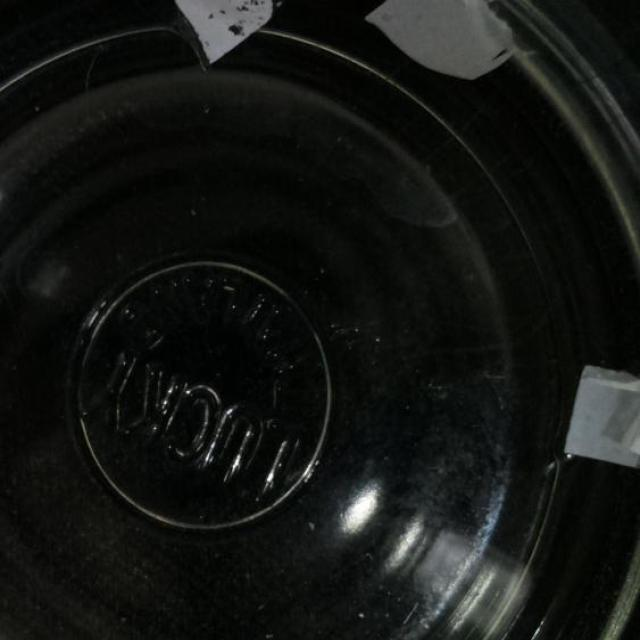fiber: (359, 2, 525, 83), (563, 364, 640, 466), (172, 1, 274, 68)
